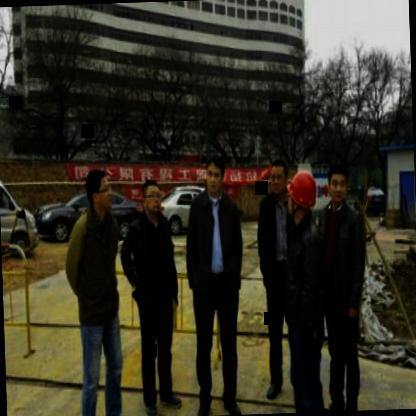head: (200, 150, 228, 198), (84, 165, 112, 211), (325, 161, 352, 207), (139, 178, 166, 223), (268, 158, 290, 198)
helmet: (288, 169, 317, 224)
